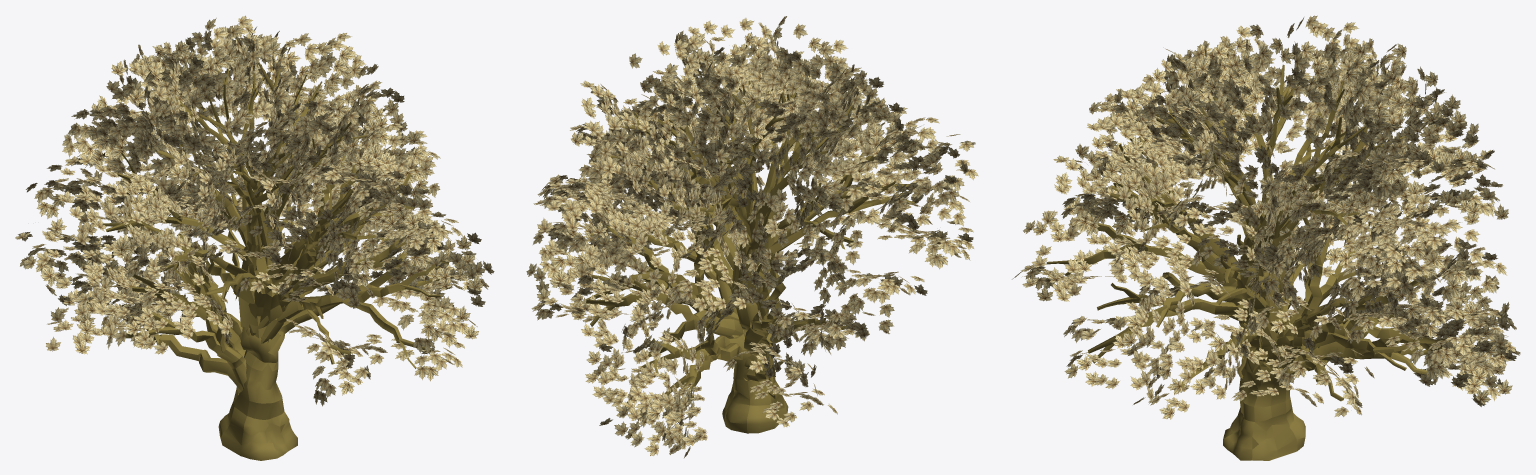
File: BigOak_Fixed.fbx
3 views of the same model, side by side, from view 1: azimuth 30°, elevation 25°; view 2: azimuth 150°, elevation 25°; view 3: azimuth 270°, elevation 25° (orthographic). The views are drawn at different scales.
Visible parts, largest first — view 1: BigOak_Leaves, Branches, Trunk; view 2: BigOak_Leaves, Branches, Trunk; view 3: BigOak_Leaves, Branches, Trunk.
Boxes of the visible parts, x1,y1,x2,y2 form: BigOak_Leaves: (15, 15, 494, 406); Branches: (103, 62, 453, 394); Trunk: (218, 326, 297, 460); BigOak_Leaves: (526, 16, 978, 457); Branches: (581, 45, 914, 406); Trunk: (722, 302, 788, 433); BigOak_Leaves: (1012, 15, 1520, 419); Branches: (1046, 64, 1447, 401); Trunk: (1223, 318, 1305, 460).
Bounding box in the file's own units: 2018 × 1894 × 2133.
